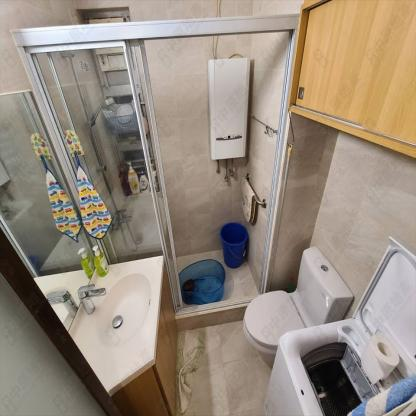Faucet: (76, 283, 112, 316)
Toilet: (244, 244, 355, 367)
Toilet Sink: (96, 274, 150, 347)
Washing Machine: (262, 237, 416, 415)
Water Cubicle: (12, 14, 299, 305)
Water Heater: (207, 58, 249, 158)
